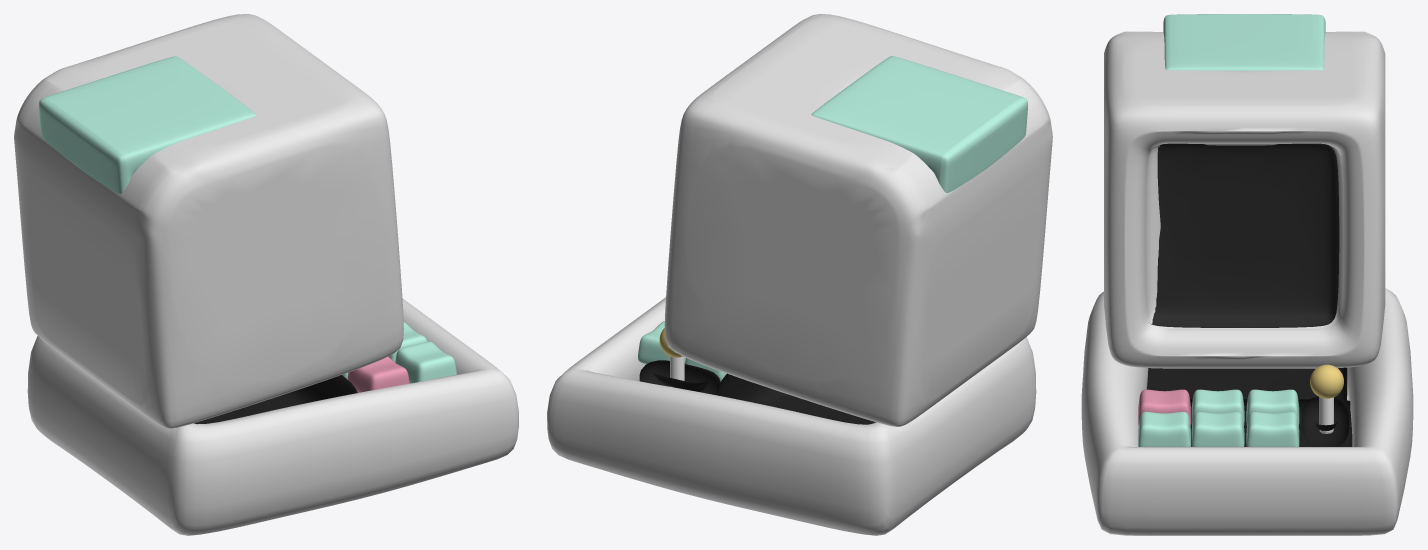
The model's file is speakers2.glb.
The picture shows the model from 3 angles, left to right: view 1: azimuth 30°, elevation 25°; view 2: azimuth 150°, elevation 25°; view 3: azimuth 270°, elevation 25°; orthographic projection. The views are drawn at different scales.
Parts seen in each view (by area): view 1: Cube.003; view 2: Cube.003; view 3: Cube.003.
Boxes of the visible parts, x1,y1,x2,y2 form: Cube.003: (14, 14, 518, 535); Cube.003: (547, 14, 1052, 535); Cube.003: (1081, 14, 1413, 535).
Size of the model in its own units: 0.2136 by 0.2129 by 0.1713.
